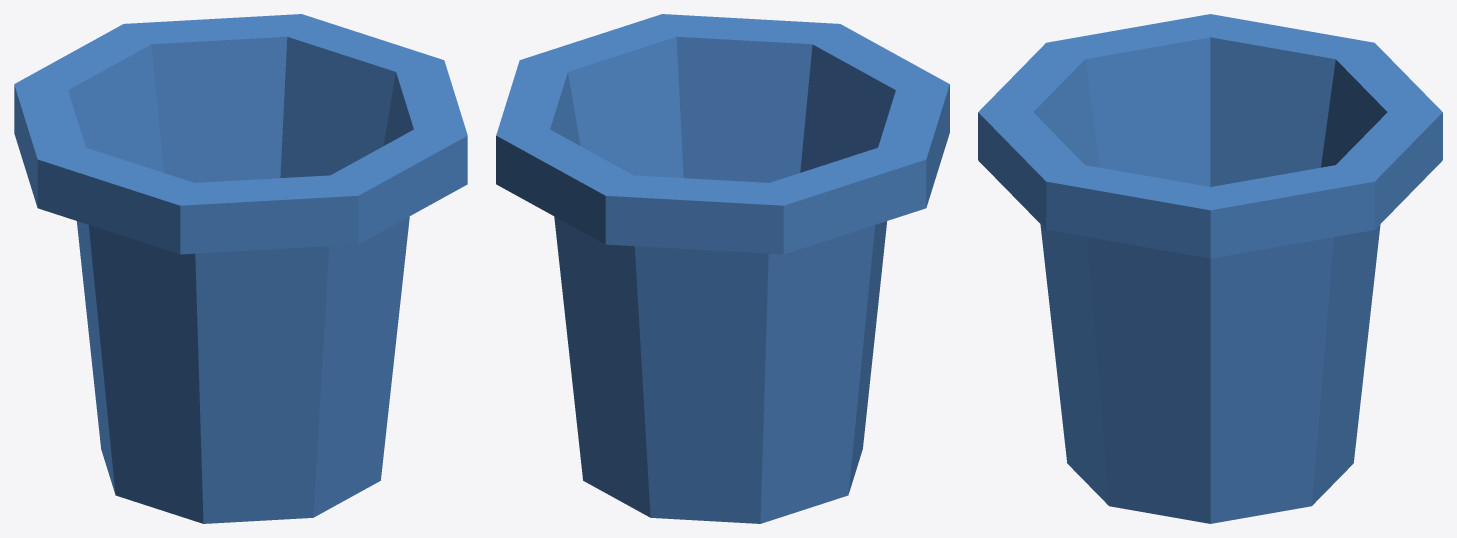
File: Pot_6.fbx
The picture shows the model from 3 angles, left to right: view 1: azimuth 30°, elevation 25°; view 2: azimuth 150°, elevation 25°; view 3: azimuth 270°, elevation 25°; orthographic projection.
Parts seen in each view (by area): view 1: Pot_6; view 2: Pot_6; view 3: Pot_6.
Boxes of the visible parts, x1,y1,x2,y2 form: Pot_6: [14, 14, 467, 523]; Pot_6: [496, 14, 949, 523]; Pot_6: [978, 14, 1442, 523].
Size of the model in its own units: 14.61 by 14.61 by 12.19.
